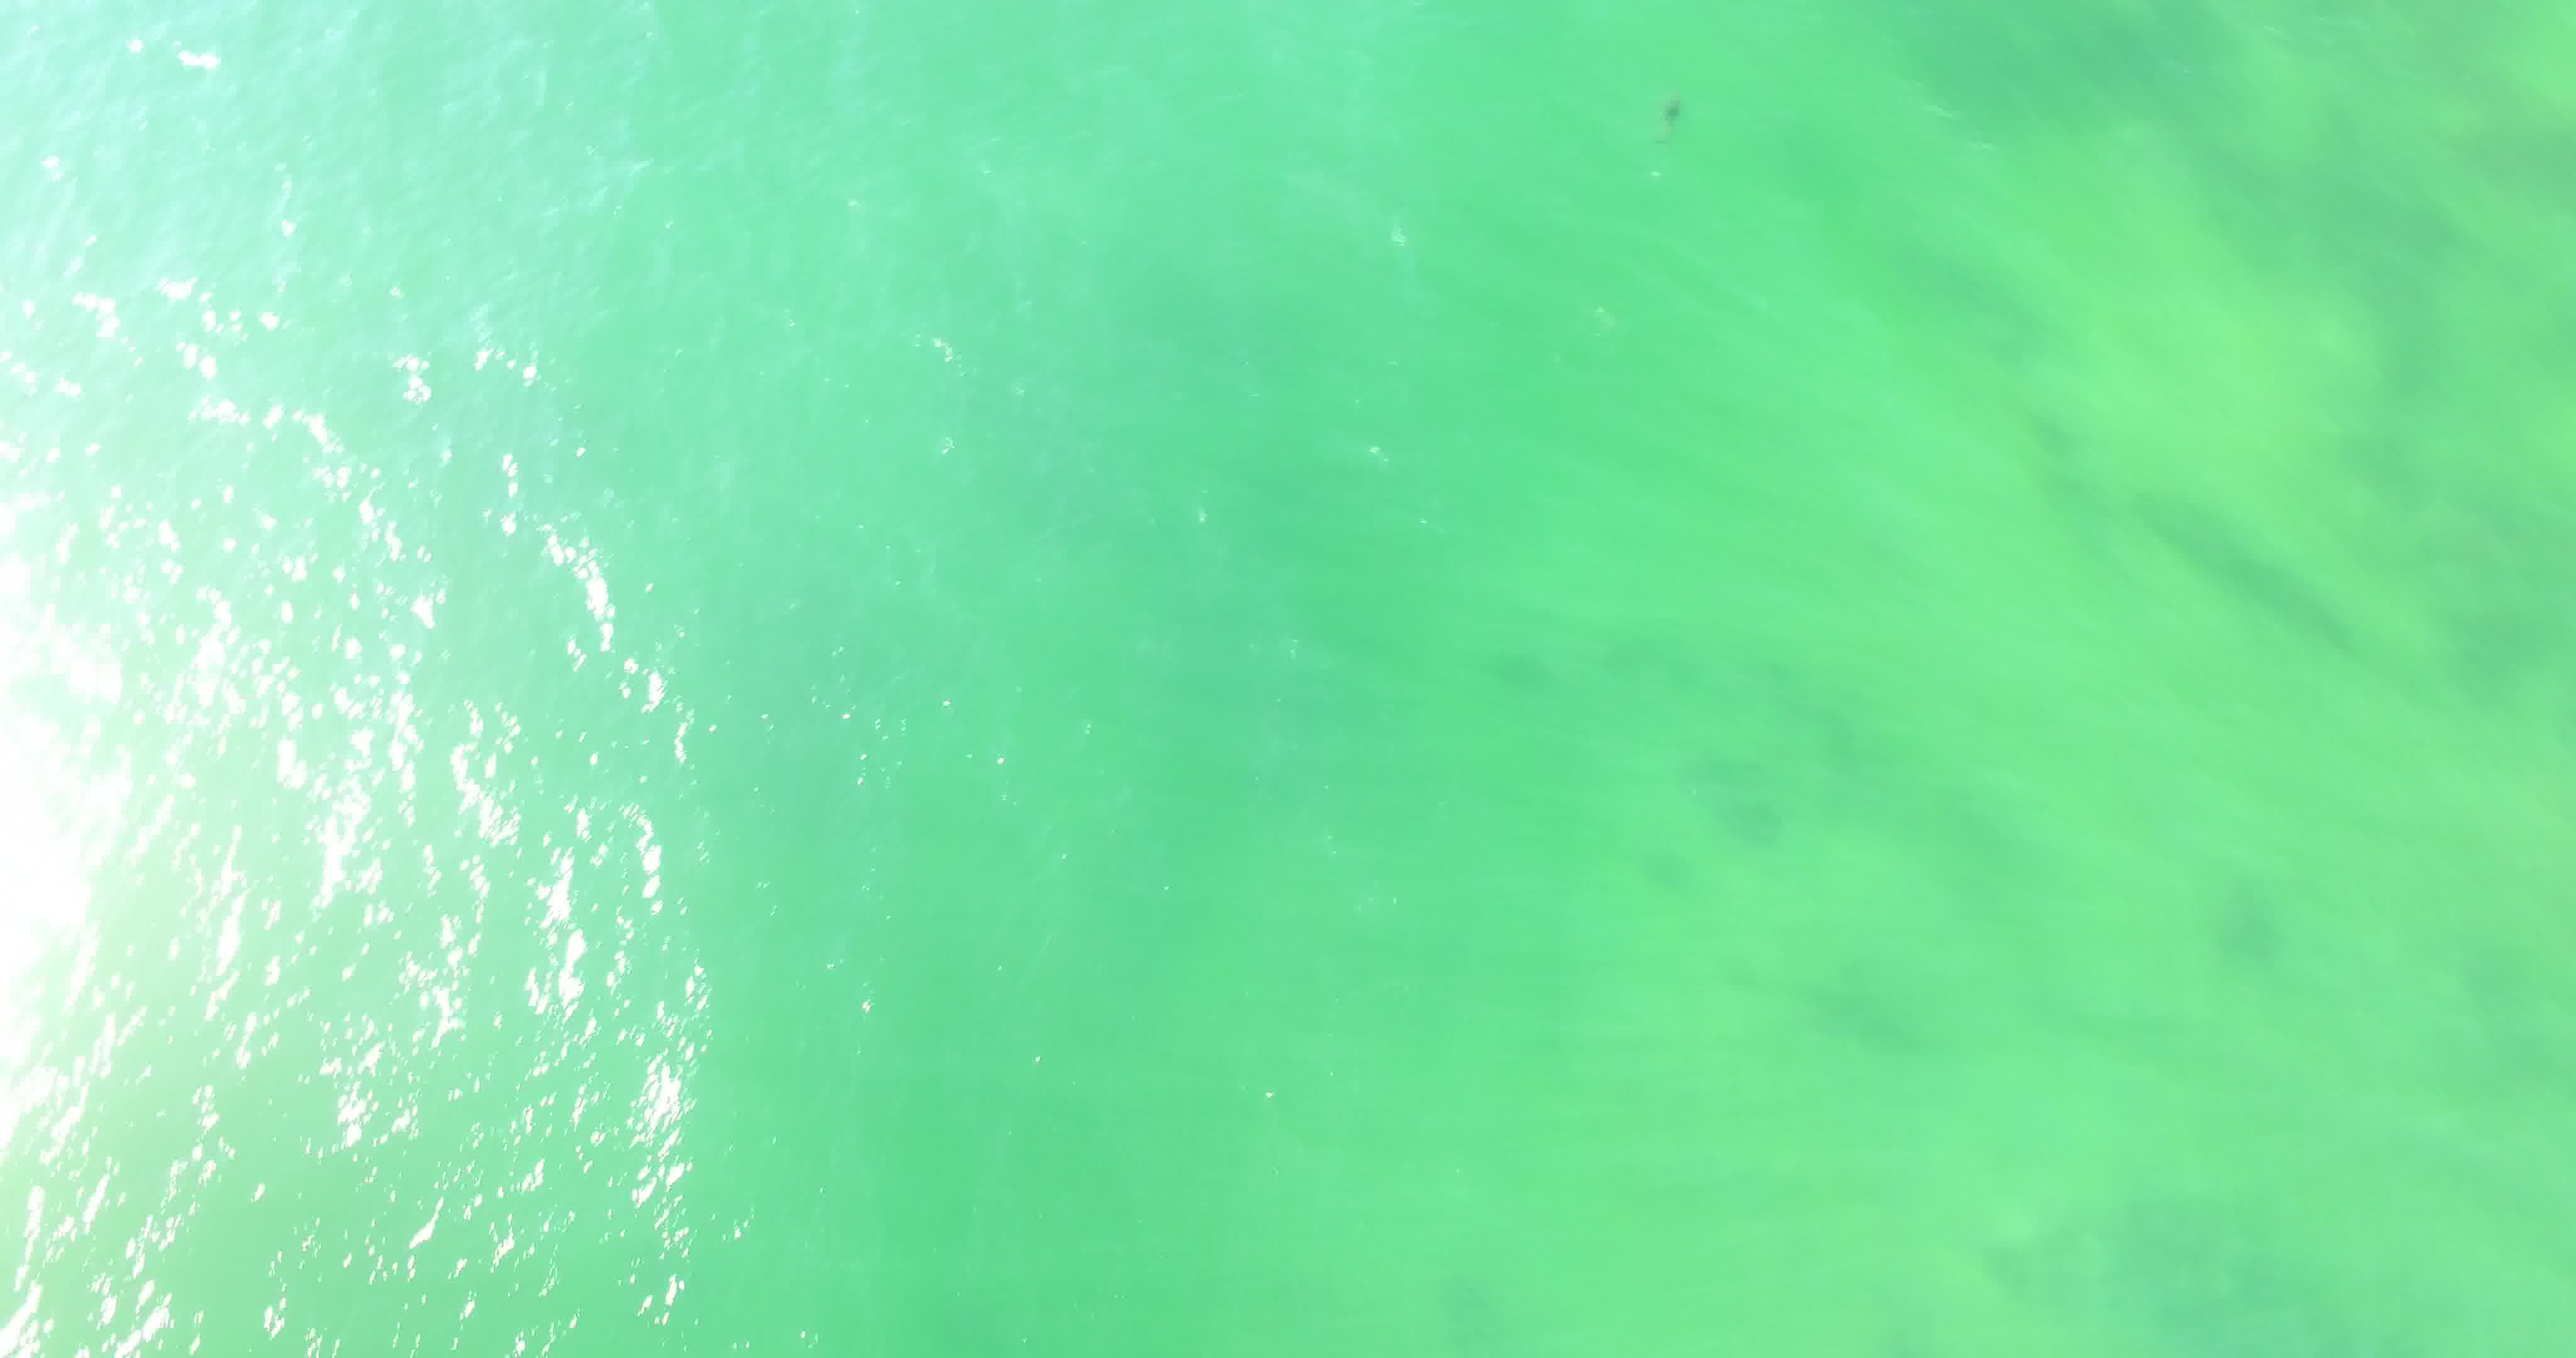dolphin: (1646, 77, 1704, 160)
